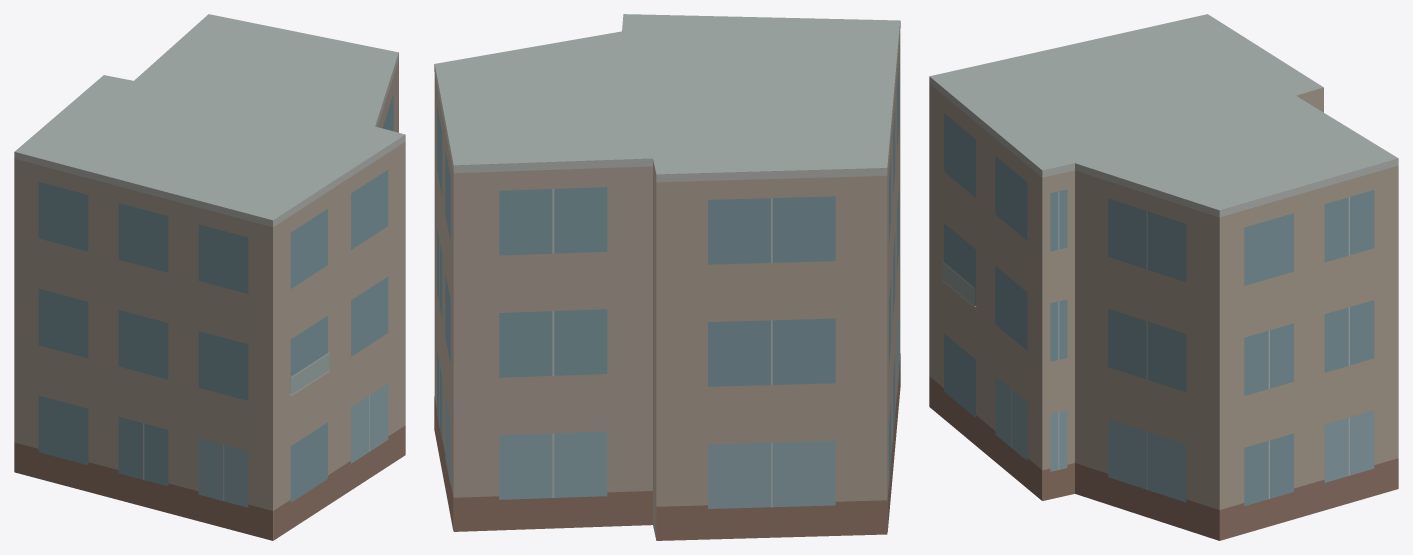
File: survey-upis-32581368.glb
The picture shows the model from 3 angles, left to right: view 1: azimuth 30°, elevation 25°; view 2: azimuth 150°, elevation 25°; view 3: azimuth 270°, elevation 25°; orthographic projection. The views are drawn at different scales.
Visible parts, largest first — view 1: survey-upis-32581368.tmp; view 2: survey-upis-32581368.tmp; view 3: survey-upis-32581368.tmp.
Part boxes in pixels (x1,y1,x2,y2): survey-upis-32581368.tmp: (14,14,405,540); survey-upis-32581368.tmp: (434,14,900,540); survey-upis-32581368.tmp: (929,14,1398,540).
Bounding box in the file's own units: 14.41 × 11.3 × 14.55.
